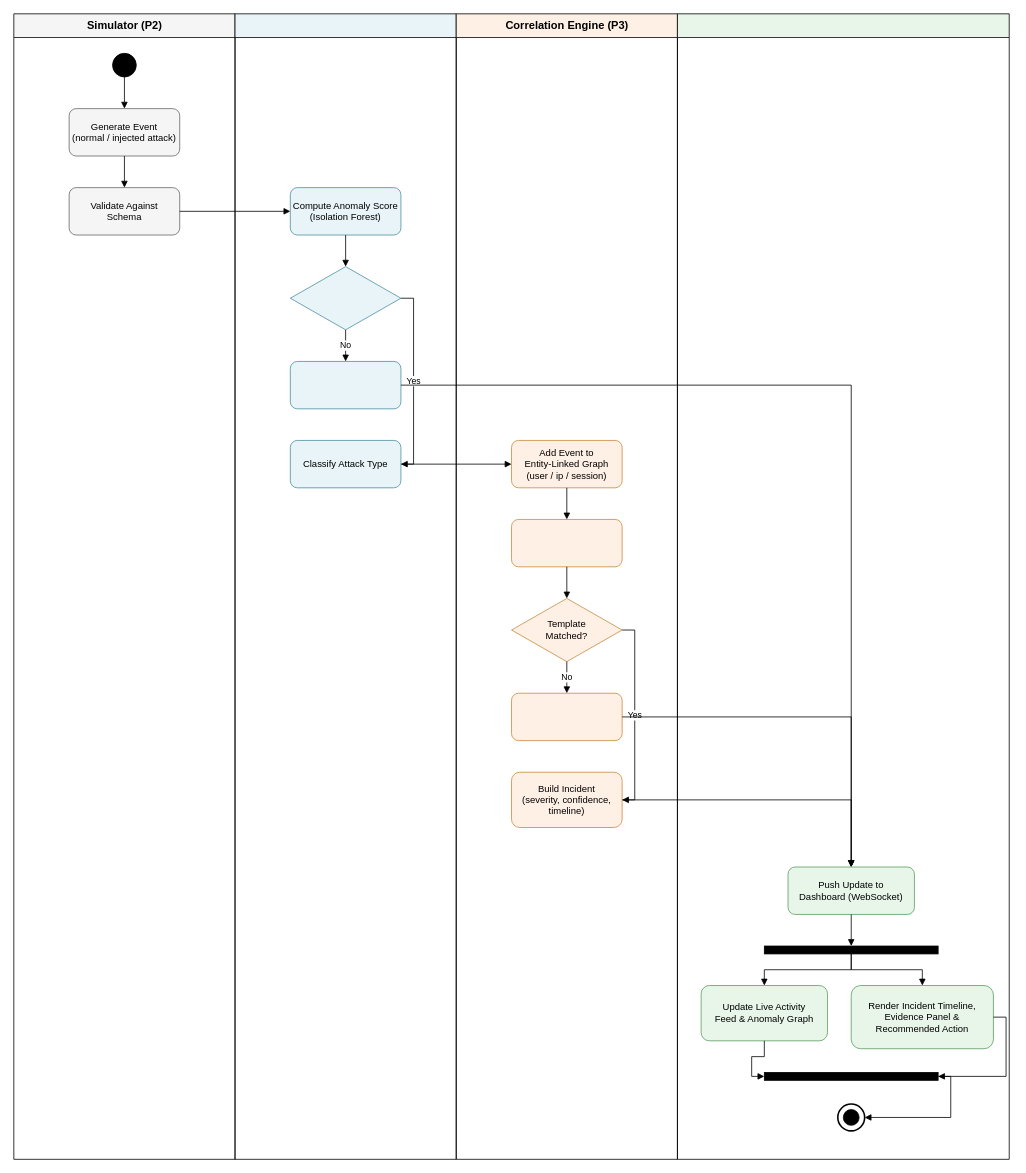
Image size: 1026x1173. Some labels were removed from this diagram. Here are the shapes that lost their labels. From the top down, the box of each, then its label:
(290, 266, 401, 330): Anomaly Score Above Threshold?
(290, 361, 401, 409): Store Event (Baseline, No Action)
(511, 519, 622, 567): Match Against Attack-Chain Templates
(234, 13, 456, 1159): Detection Engine (P1)
(677, 13, 1009, 1159): Dashboard (P4)
(511, 692, 622, 741): Store as Standalone Anomaly Alert
